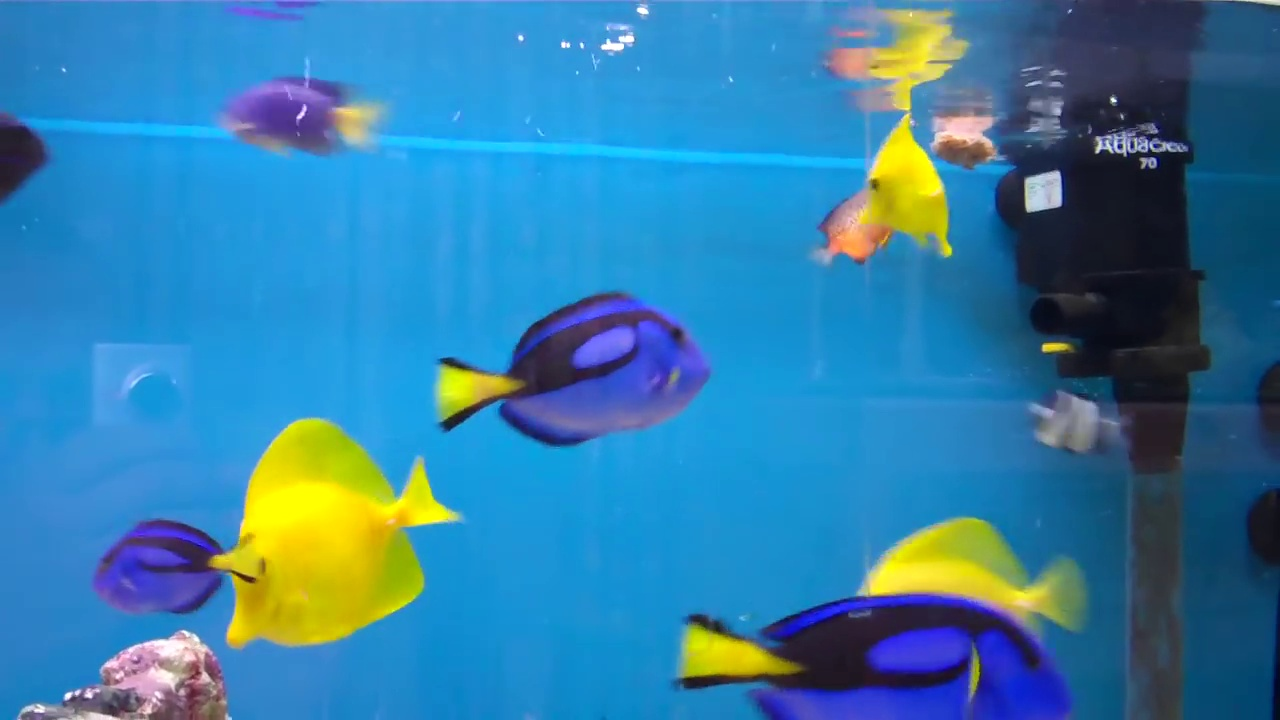blue tang surgeonfish: (409, 263, 720, 469), (661, 603, 1070, 720), (54, 518, 229, 632)
saddle butterfly fish: (172, 405, 463, 655), (850, 119, 954, 263)
